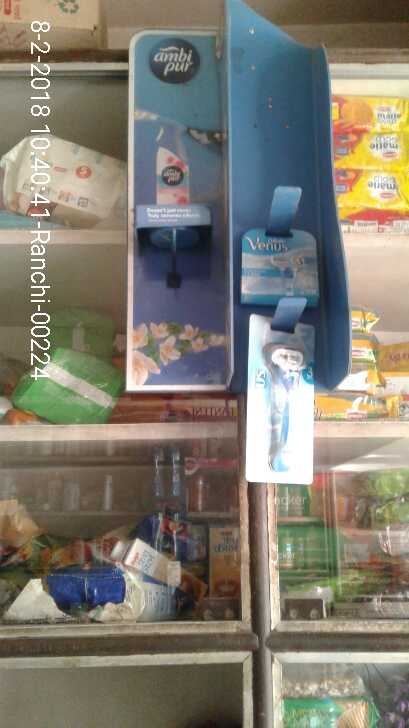venus: (251, 317, 318, 488), (240, 227, 320, 304)
